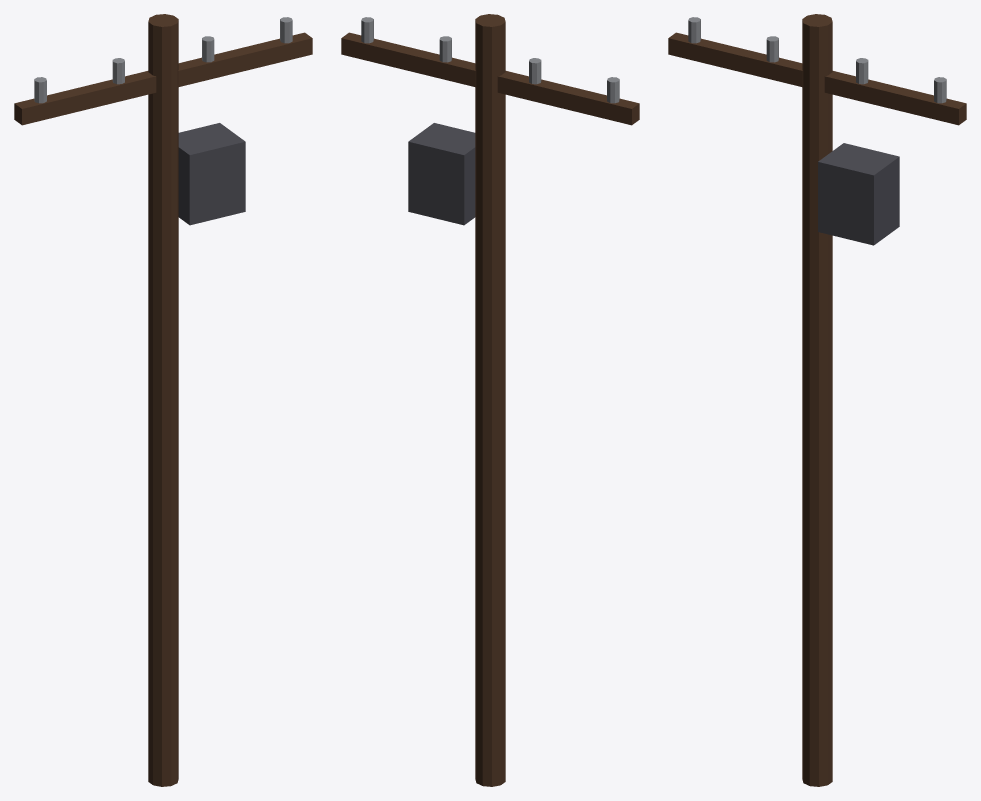
The model's file is SM_K_UtilityPole.obj.
3 views of the same model, side by side, from view 1: azimuth 30°, elevation 25°; view 2: azimuth 150°, elevation 25°; view 3: azimuth 330°, elevation 25° (orthographic).
Parts seen in each view (by area): view 1: SM_K_UtilityPole; view 2: SM_K_UtilityPole; view 3: SM_K_UtilityPole.
Boxes of the visible parts, x1,y1,x2,y2 form: SM_K_UtilityPole: [14, 14, 312, 786]; SM_K_UtilityPole: [341, 14, 639, 786]; SM_K_UtilityPole: [668, 14, 966, 786].
Size of the model in its own units: 2.6 by 6.5 by 0.4.
